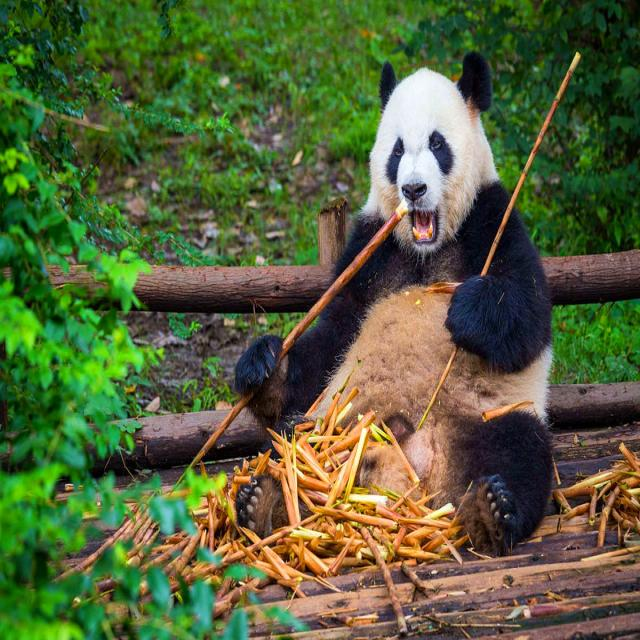panda: (235, 52, 554, 555)
